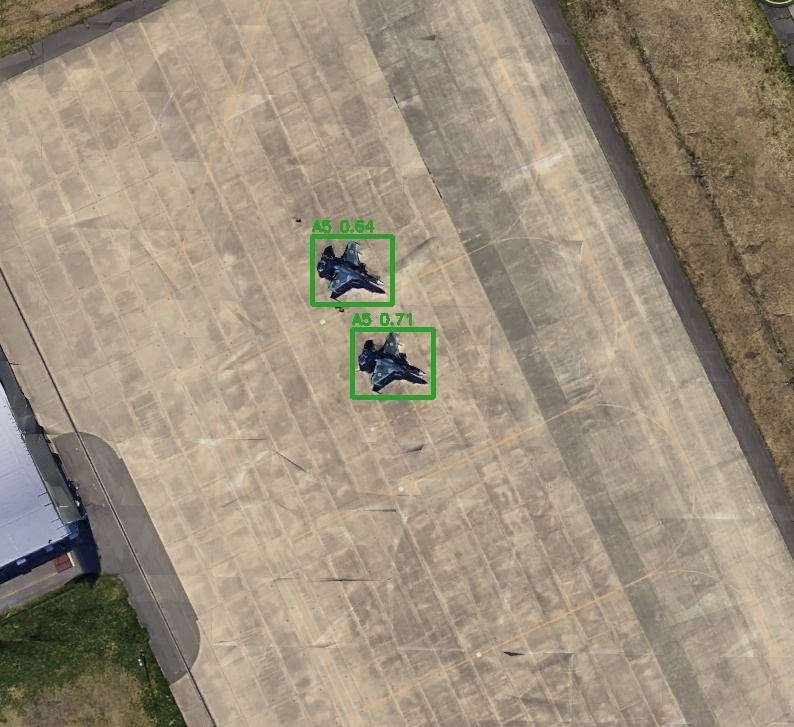A5: (352, 329, 433, 397), (312, 236, 392, 304)
